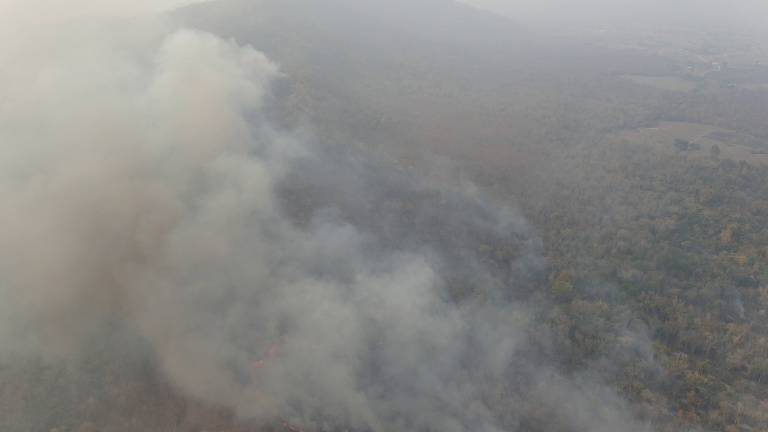smoke: (15, 30, 350, 410), (235, 245, 517, 432), (249, 389, 300, 432), (249, 343, 282, 371)
